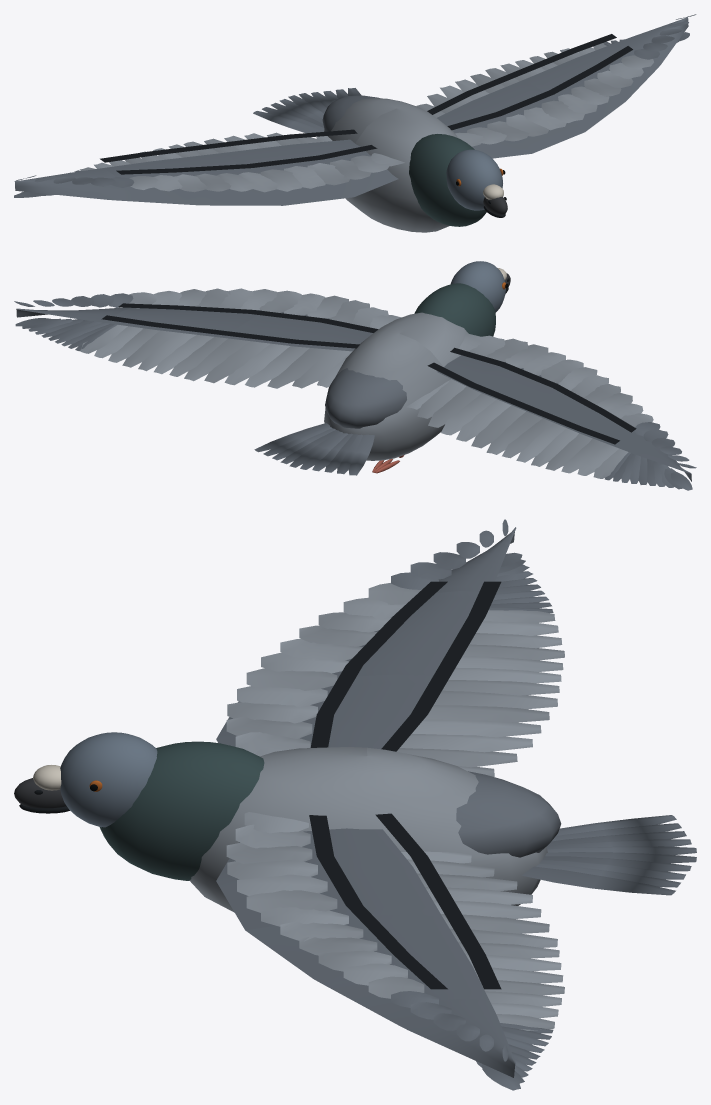
File: v3-rock-pigeon-low.glb
3 views of the same model, one above another, from view 1: azimuth 30°, elevation 25°; view 2: azimuth 150°, elevation 25°; view 3: azimuth 270°, elevation 25° (orthographic). The views are drawn at different scales.
Visible parts, largest first — view 1: surface-detail (×11), leading-edge-cover (×6), breast, neck, head, mantle; view 2: surface-detail (×11), leading-edge-cover (×6), breast, mantle, neck, head; view 3: surface-detail (×11), leading-edge-cover (×6), breast, neck, head, mantle, upper-bill.
Part boxes in pixels (x1,y1,x2,y2): surface-detail (×11): (14,14,696,197); leading-edge-cover (×6): (14,17,688,205); breast: (324,98,458,232); neck: (409,134,486,226); head: (446,149,502,210); mantle: (322,95,379,131); surface-detail (×11): (14,288,696,490); leading-edge-cover (×6): (16,307,691,481); breast: (324,312,468,460); mantle: (325,368,406,428); neck: (414,283,495,336); head: (450,261,505,312); surface-detail (×11): (226,519,696,1090); leading-edge-cover (×6): (216,527,516,1077); breast: (189,747,547,912); neck: (99,741,264,880); head: (60,732,157,827); mantle: (456,771,561,857); upper-bill: (14,778,66,808).
Bounding box in the file's own units: 0.62 × 0.1062 × 0.33.
